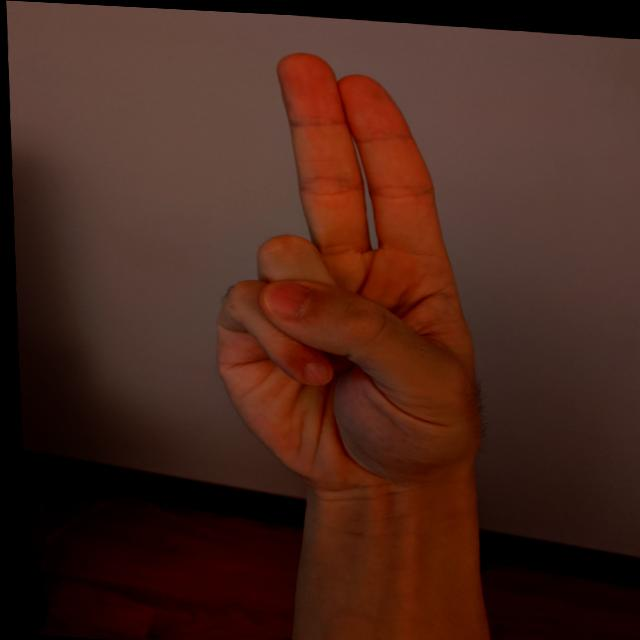U: (184, 34, 505, 496)
